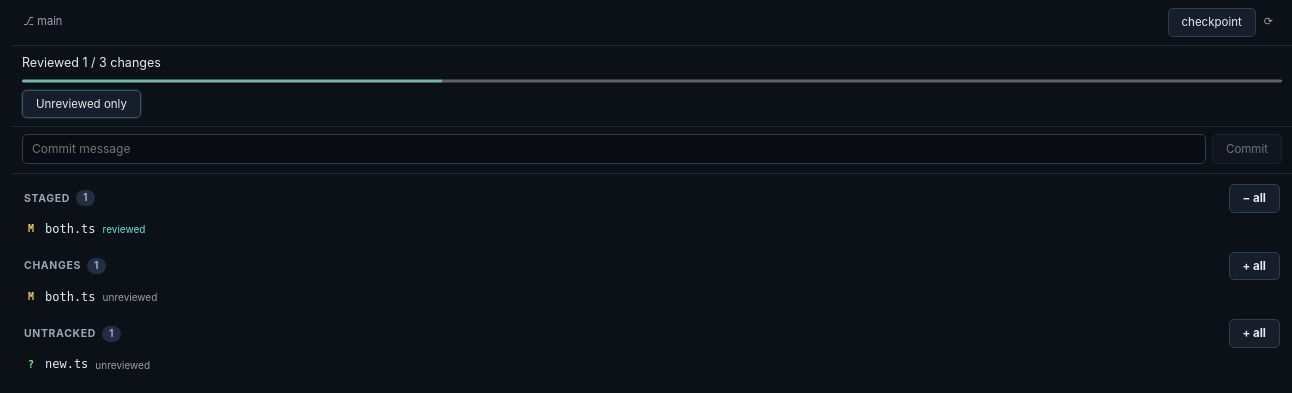
Test: filters only the confirmed comparison and keeps keyboard-focusable filter state
Click the button "Unreviewed only": (81, 104) [22,90,141,118]
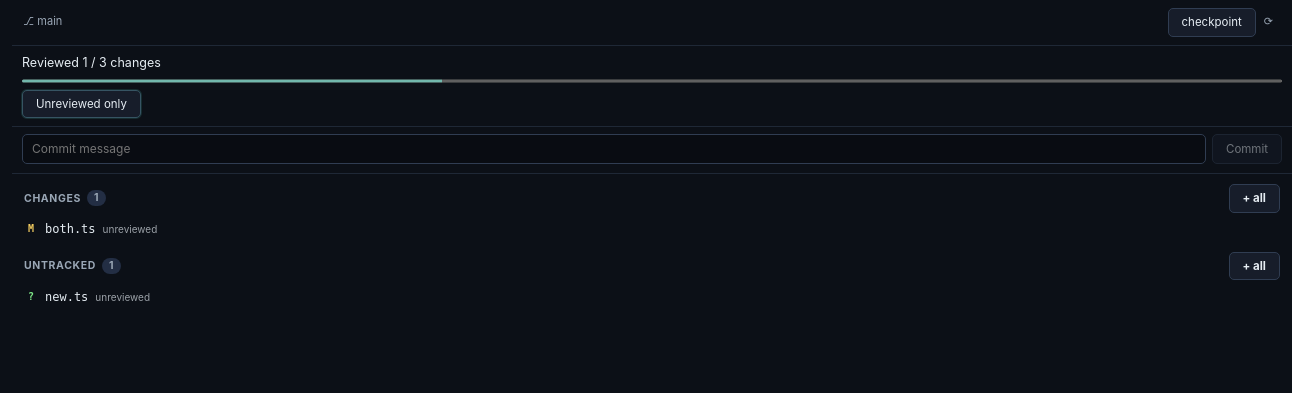
Expected: the button with class "change-row" shows "both.ts", [12,218,1260,241]
Result: the number of buttons with class "change-row" is 2 at [12,218,1260,241]; [12,286,1260,309]
Click the button "Unreviewed only": (81, 104) [22,90,141,118]
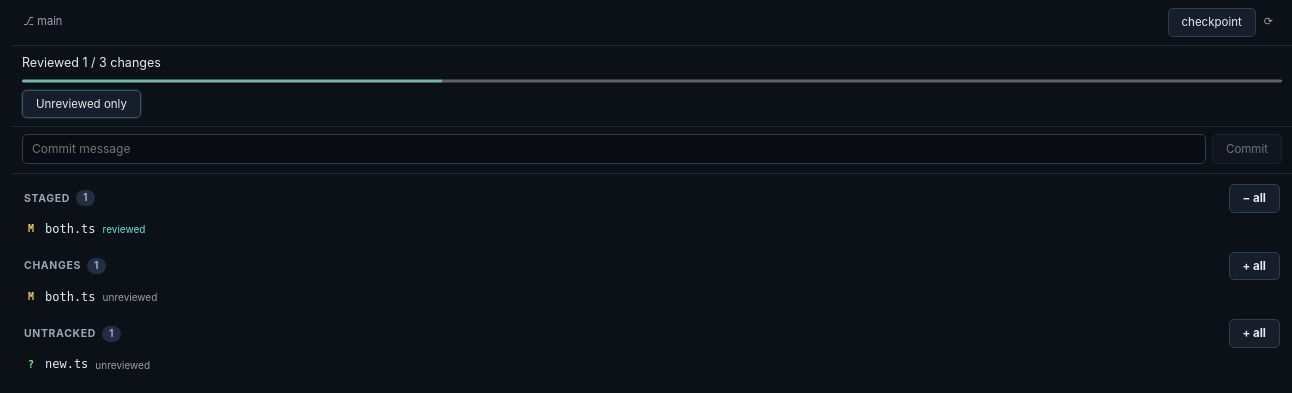
Result: the number of buttons with class "change-row" is 3 at [12,218,1260,241]; [12,286,1260,309]; [12,354,1260,377]
